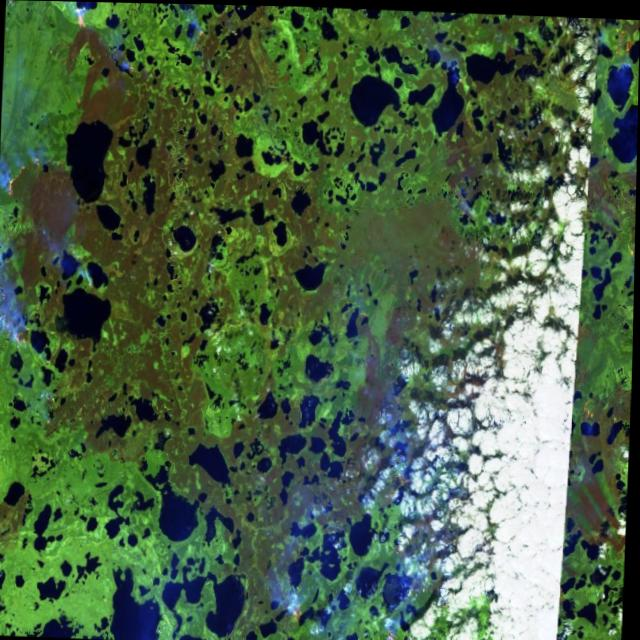fire: (586, 17, 640, 93), (0, 146, 52, 210), (0, 298, 46, 365), (567, 391, 607, 454), (177, 10, 217, 67), (104, 48, 150, 92), (280, 594, 312, 640), (66, 5, 95, 49), (377, 621, 410, 640)
